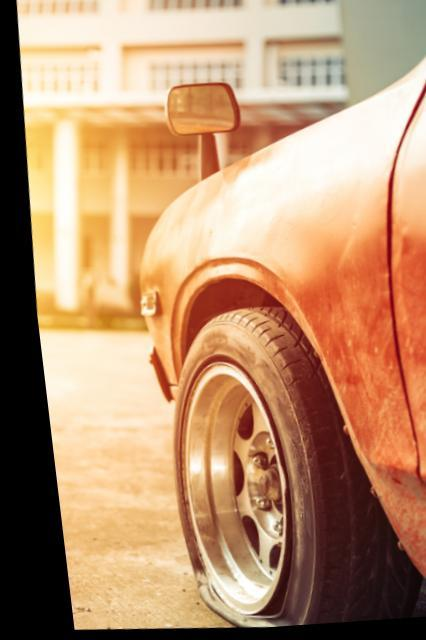tire flat: (161, 309, 406, 629)
